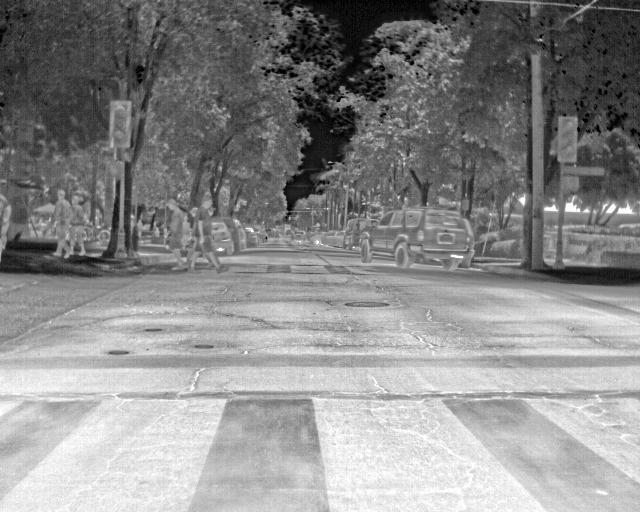bicycle: (358, 206, 474, 271), (341, 217, 374, 253), (209, 222, 235, 257), (226, 216, 246, 252), (321, 229, 345, 247)
empty: (186, 196, 227, 271), (165, 200, 186, 272), (65, 195, 88, 258), (50, 191, 70, 259)
